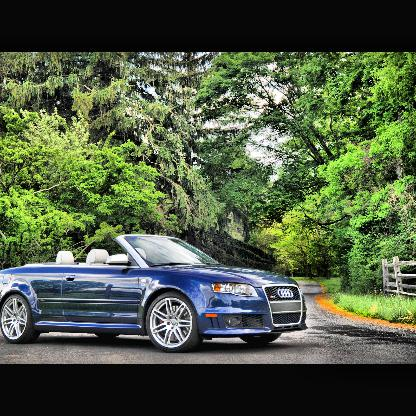Audi RS 4 Convertible 2008: (1, 235, 309, 354)
